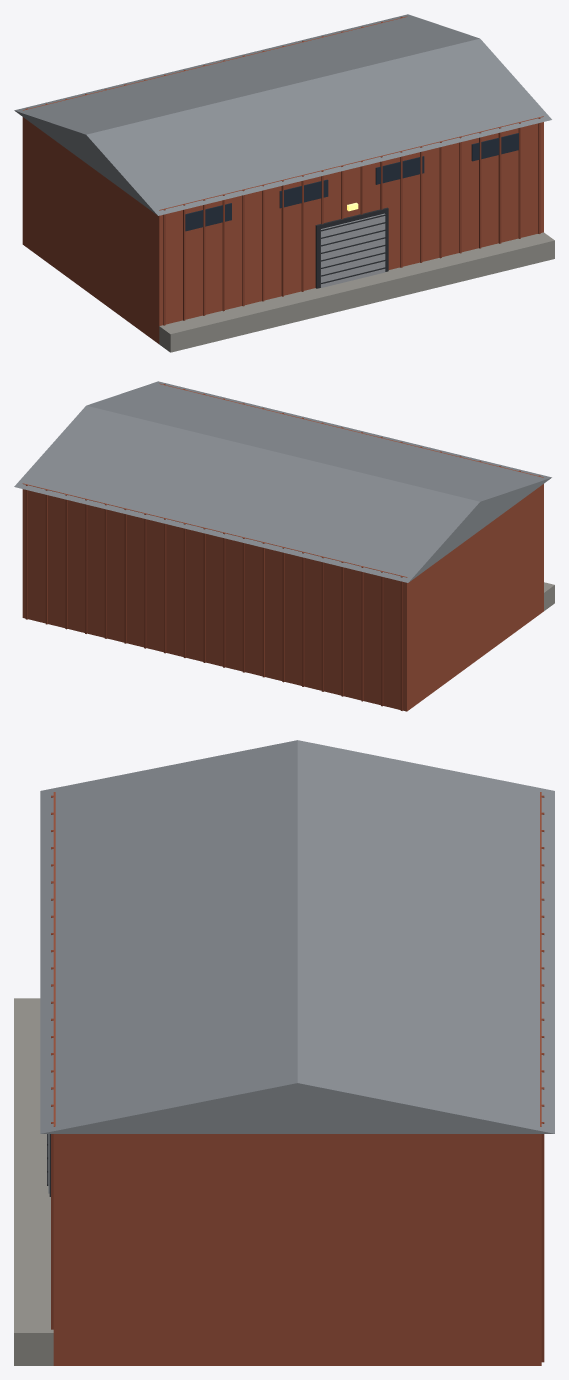
File: bld_in_warehouse_b.glb
3 views of the same model, one above another, from view 1: azimuth 30°, elevation 25°; view 2: azimuth 150°, elevation 25°; view 3: azimuth 270°, elevation 25° (orthographic). The views are drawn at different scales.
Visible parts, largest first — view 1: bld_in_warehouse_b; view 2: bld_in_warehouse_b; view 3: bld_in_warehouse_b.
Boxes of the visible parts, x1=… form: bld_in_warehouse_b: x1=14, y1=14, x2=554, y2=352; bld_in_warehouse_b: x1=14, y1=381, x2=554, y2=711; bld_in_warehouse_b: x1=14, y1=740, x2=554, y2=1365.
Size of what is drawn, in the model's own units: 24.6 by 9.6 by 16.4.
